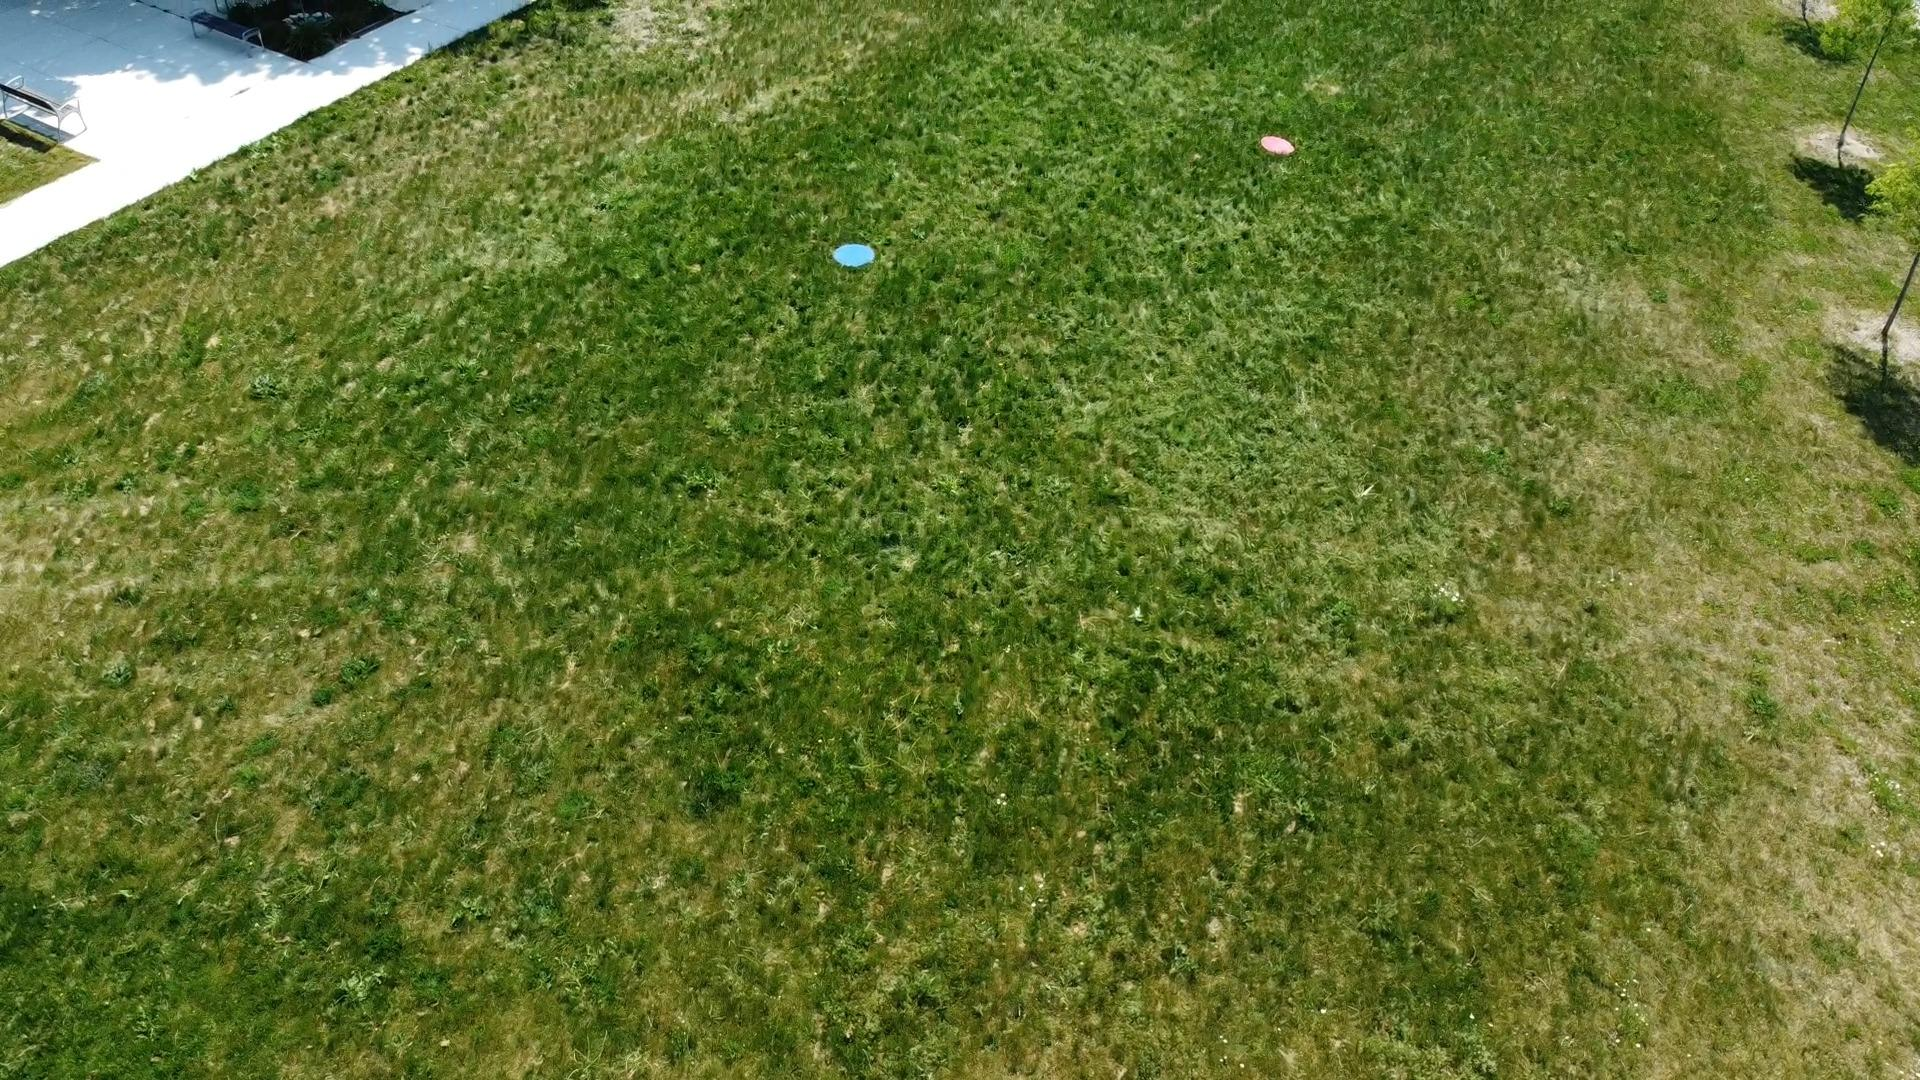Blue: (828, 240, 877, 269)
Red: (1259, 135, 1299, 158)
